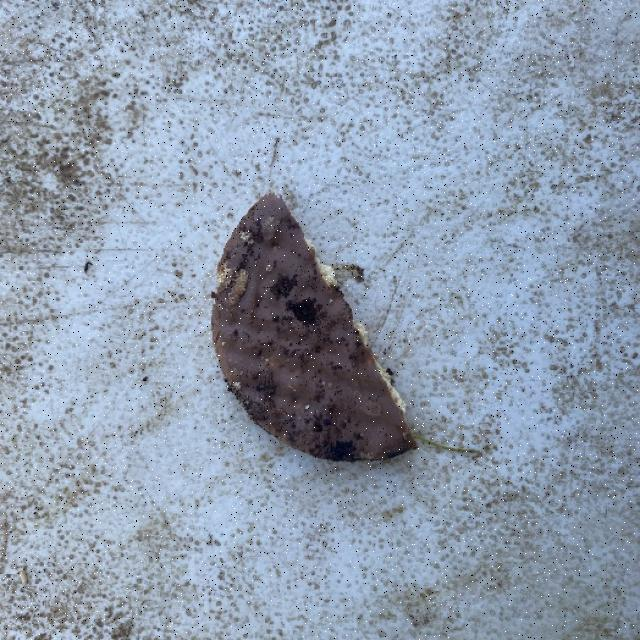organik: (205, 190, 408, 468)
